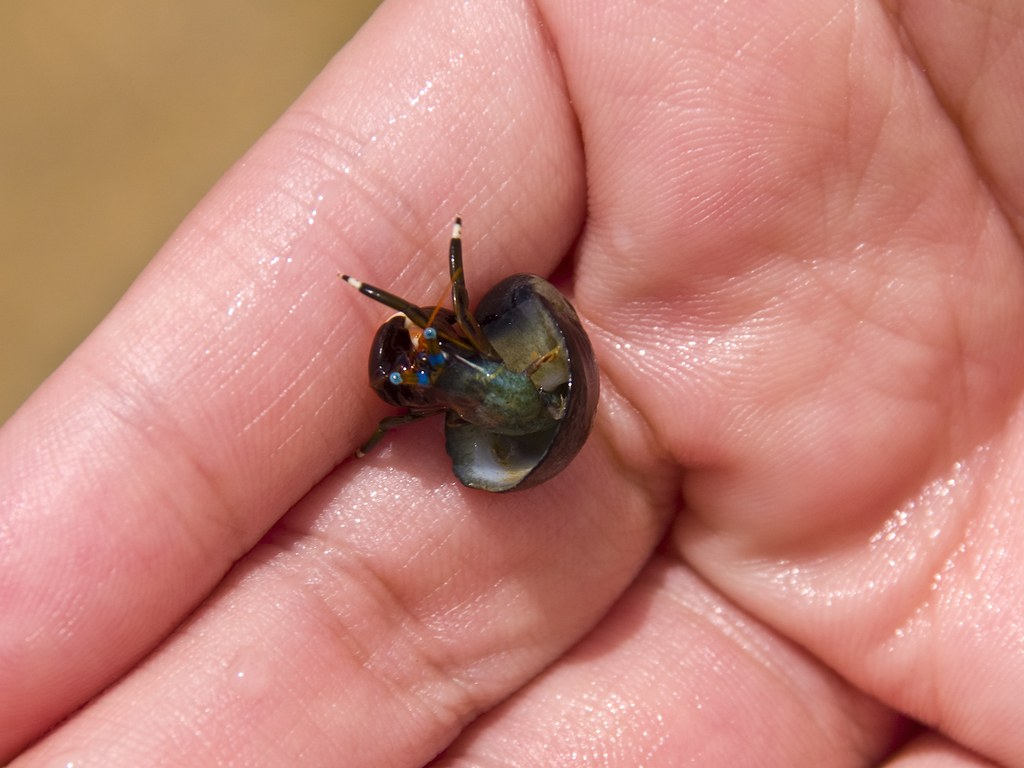insect: (334, 216, 607, 497)
